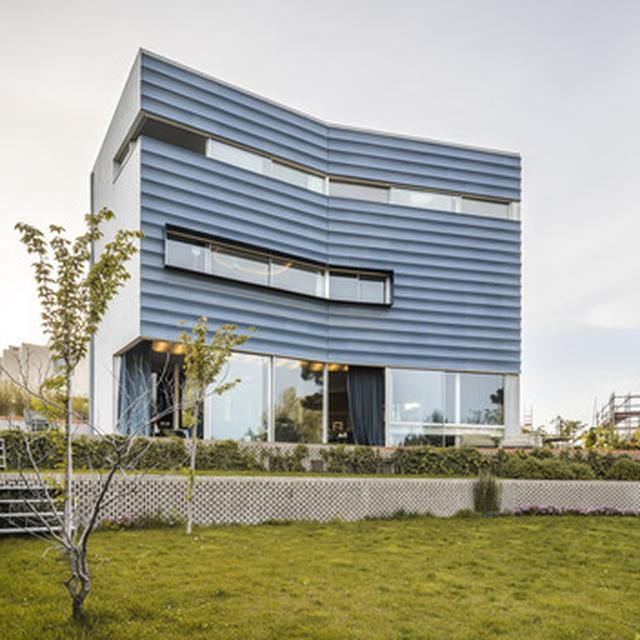building: (86, 42, 528, 444)
